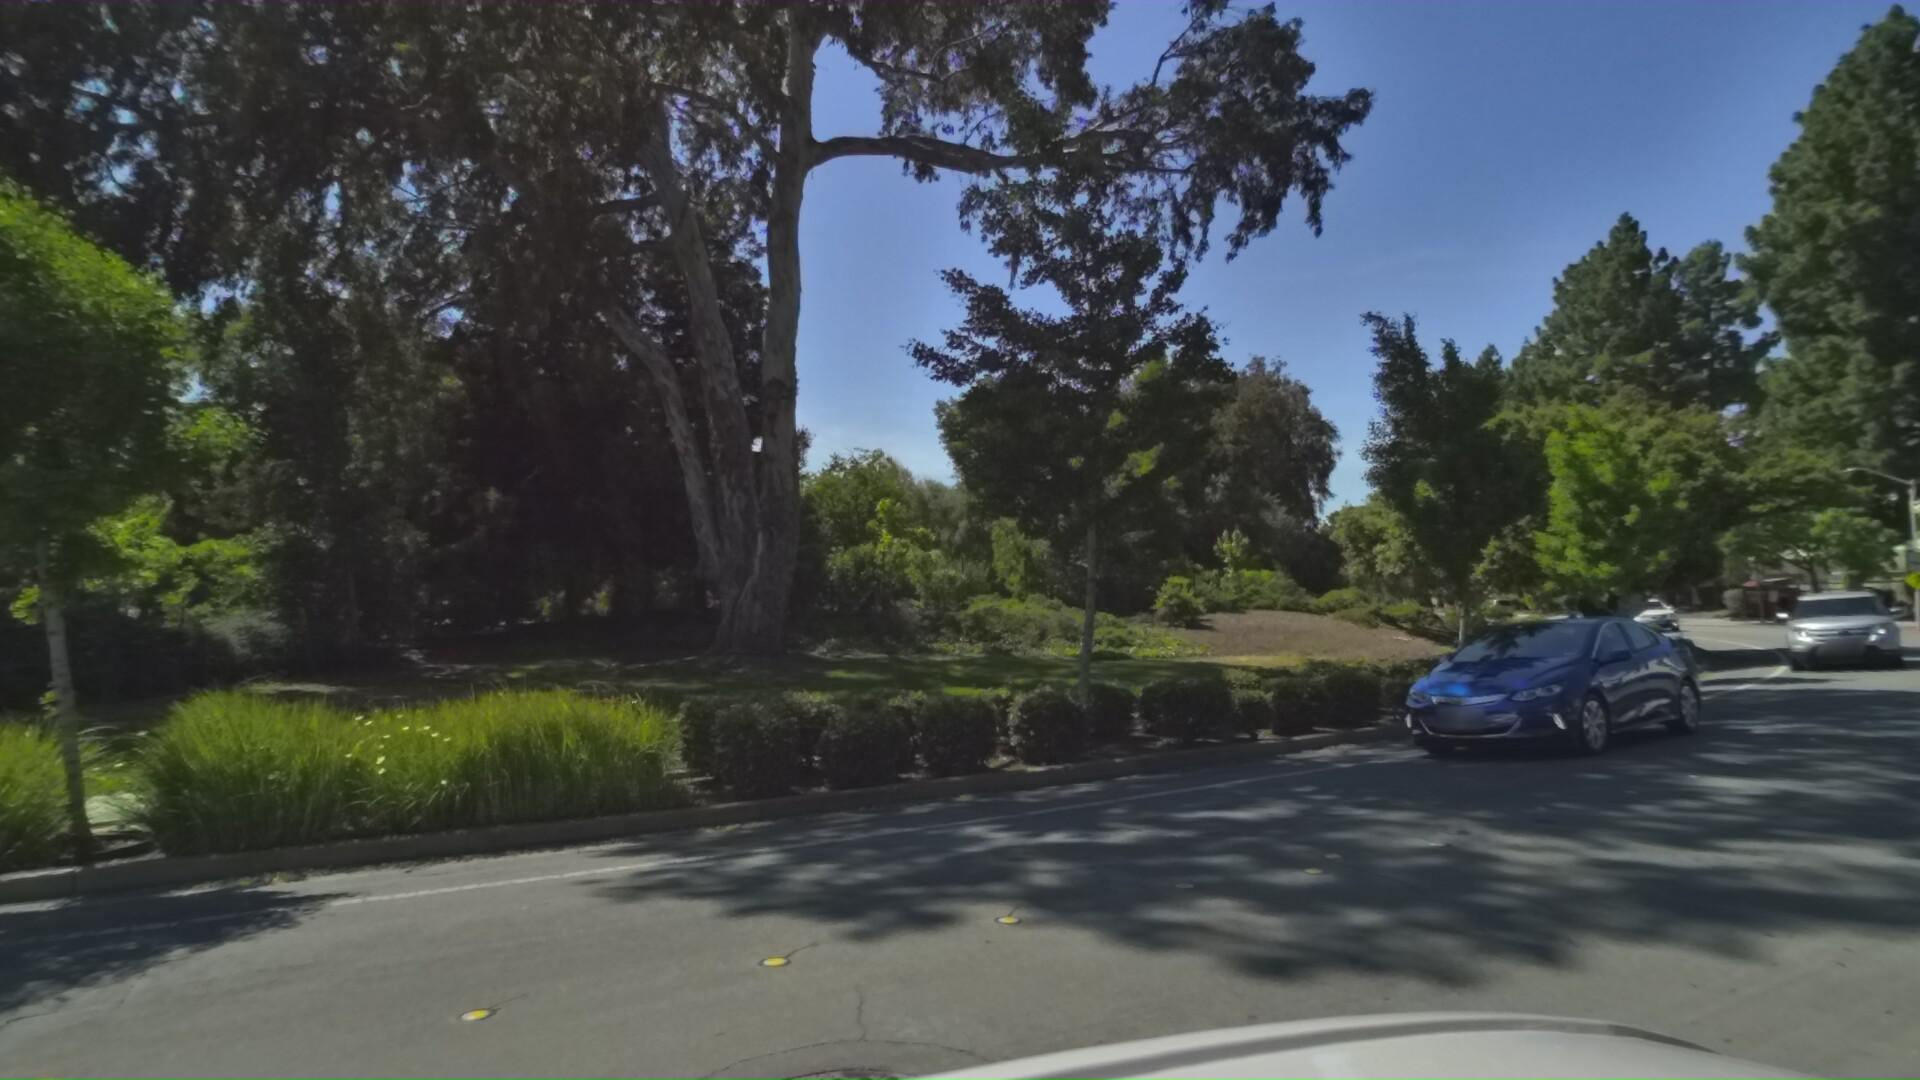car: (1316, 607, 1685, 790), (1766, 585, 1898, 684), (1607, 595, 1684, 636)
